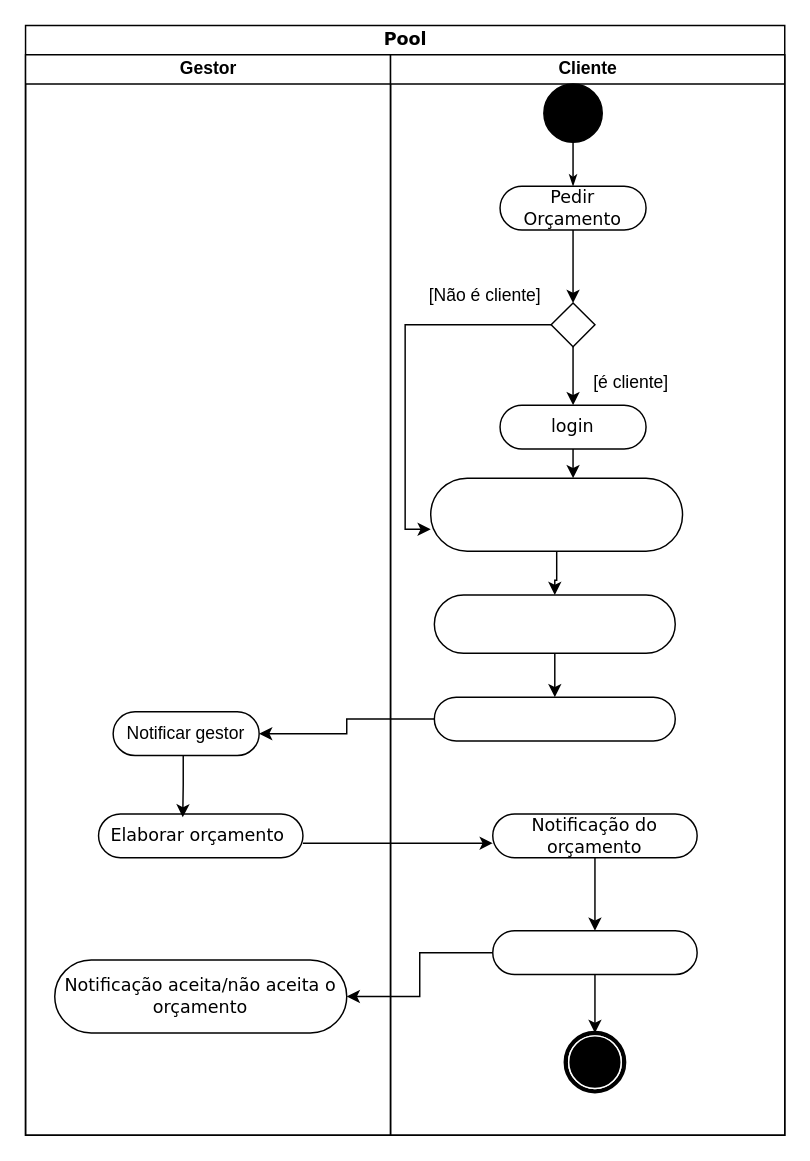
Image size: 810x1161. Some labels were removed from this diagram. The shapes that lost their labels are listed below. From the top down, each one's centre as x and y in pixels, then its label:
pixel 556 514: Escolher a data e a hora, numero de participantes e tipo de sala
pixel 554 623: Escolher sala e equipamento
pixel 554 718: Enviar Pedido de orçamento
pixel 594 952: Aceita/rejeita orçamento
